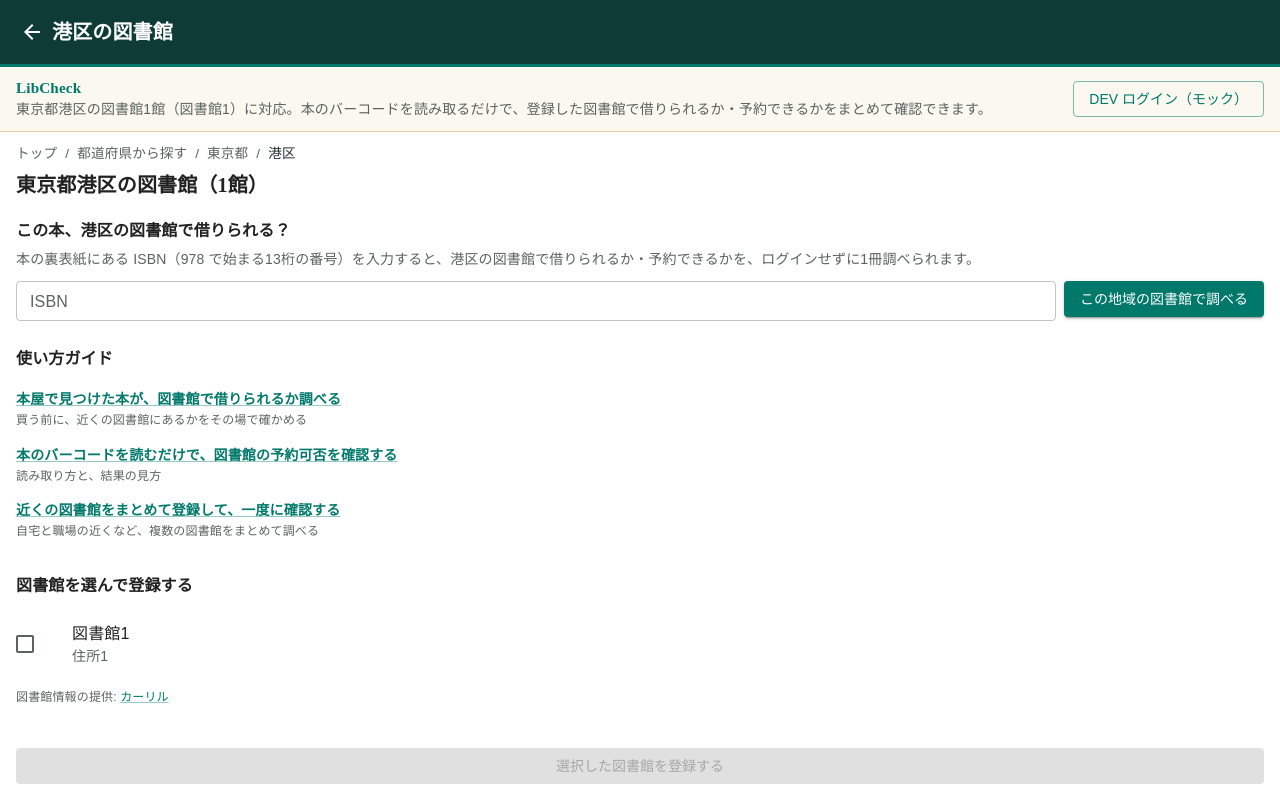
未ログインでの登録操作（#158, #167） › ダイアログをキャンセルすると選択は残るが登録はされない
Click the text "図書館1".
click(101, 634)  # box [72,625,130,642]
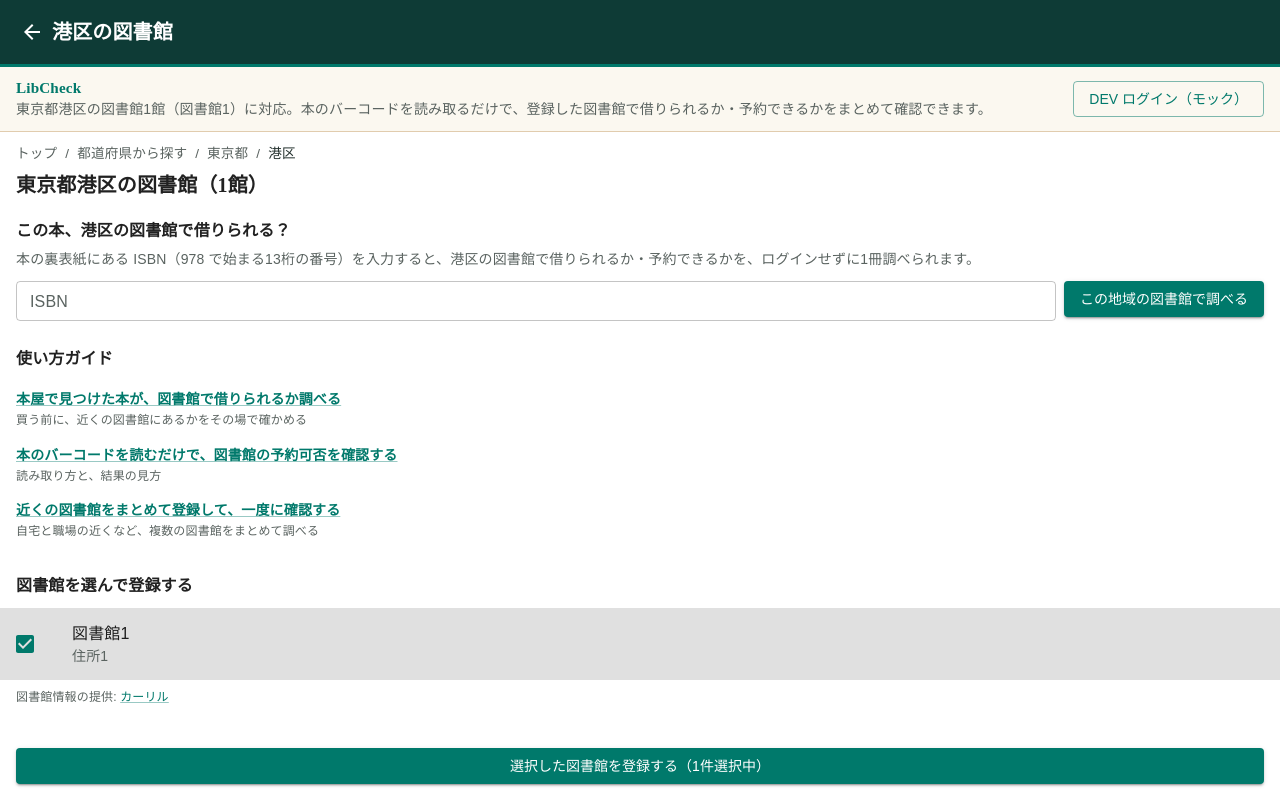
Click the button "選択した図書館を登録する（1件選択中）".
click(640, 766)  # box [16,748,1264,784]
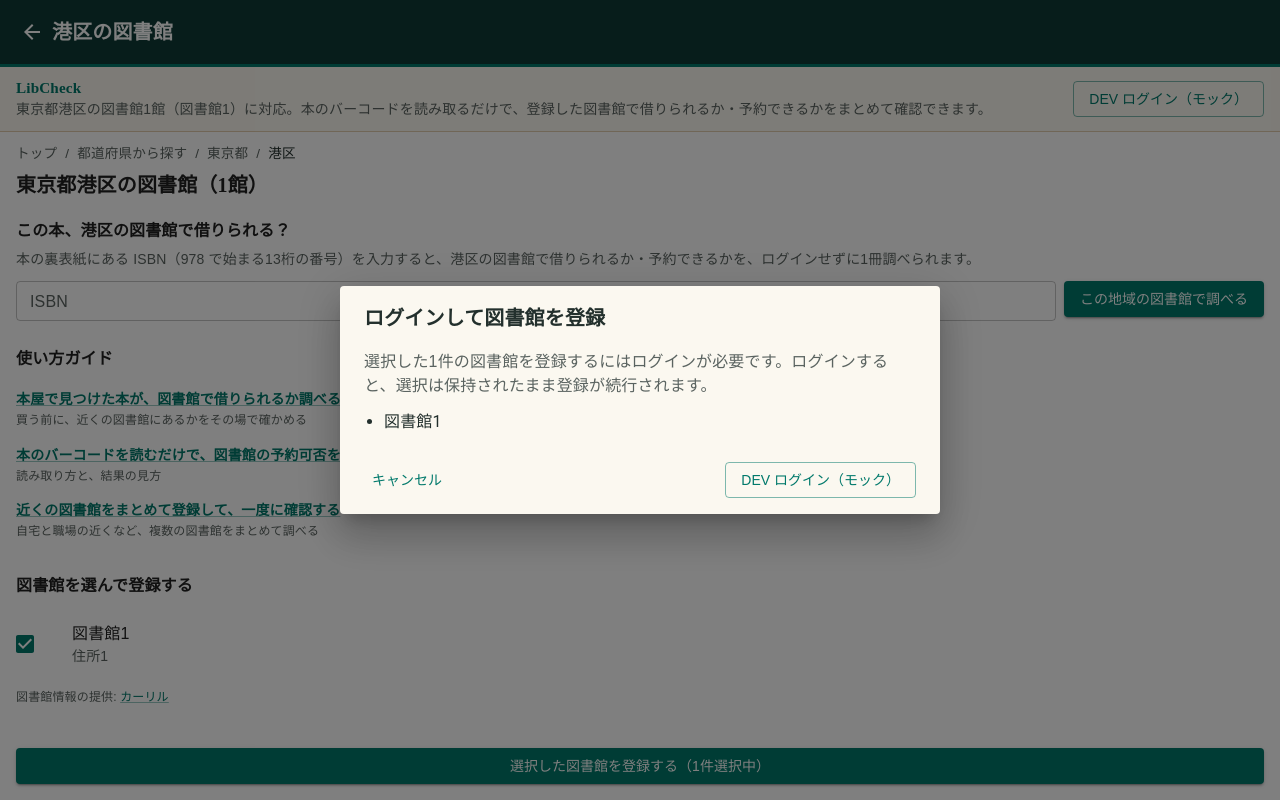
Expected: the dialog is shown, [340,286,940,514]
Click the button "キャンセル".
click(407, 480)  # box [364,462,450,498]
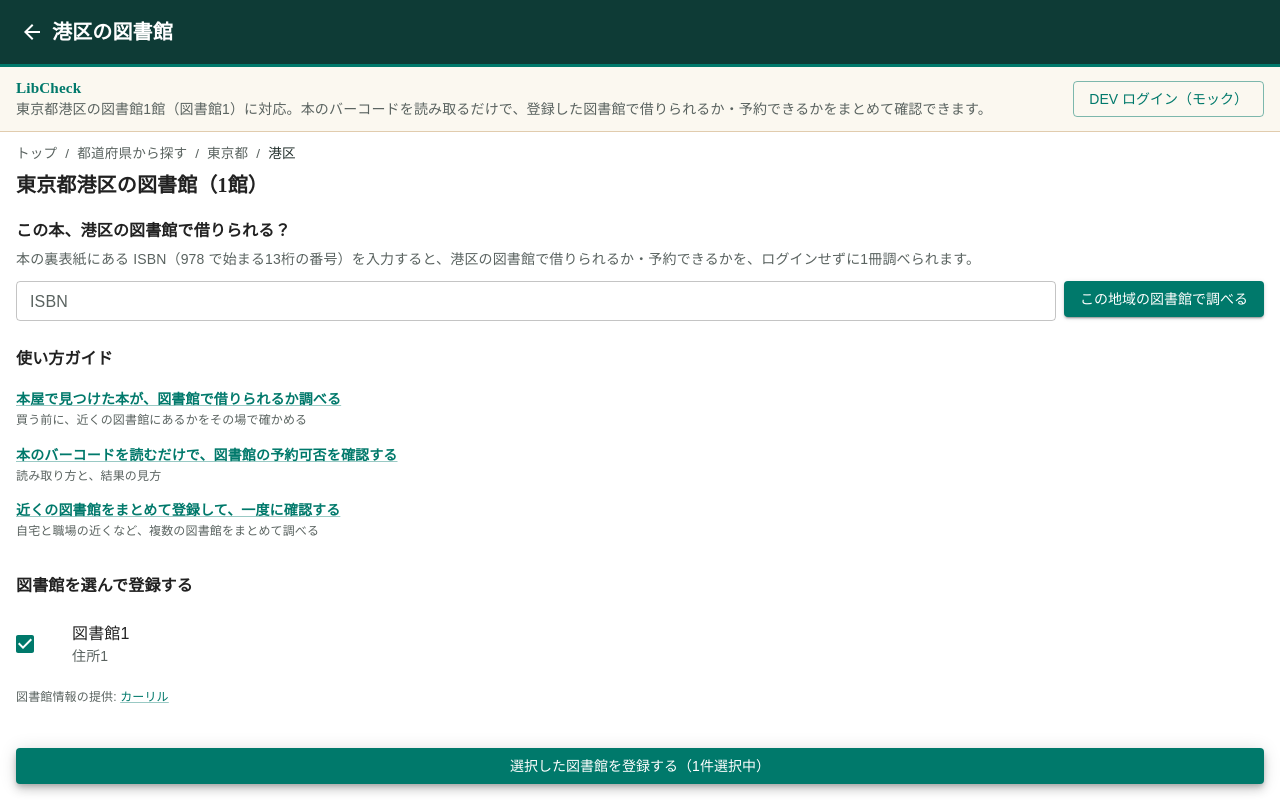
Expected: the button "選択した図書館を登録する（1件選択中）" is shown, [16,748,1264,784]
Expected: the dialog is gone
